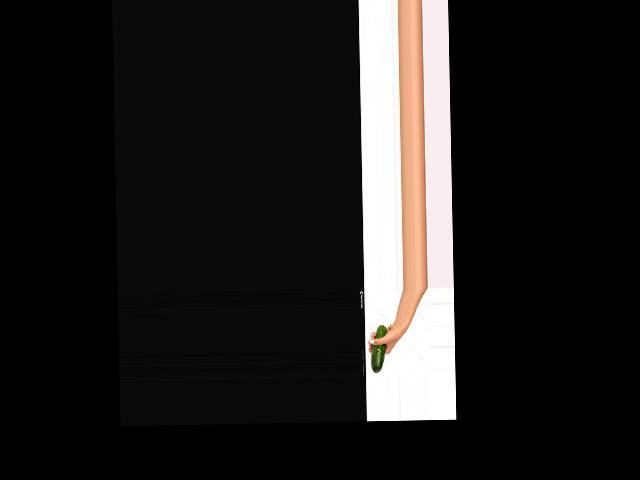cucumber: (369, 325, 387, 373)
